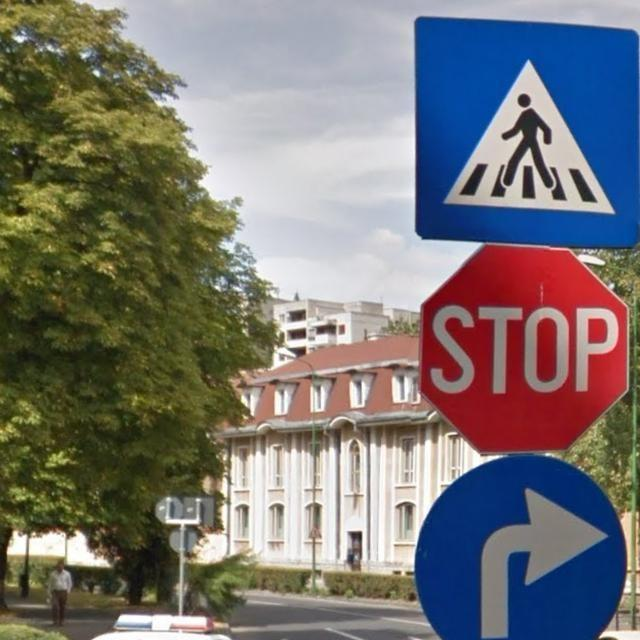info_crosswalk: (412, 12, 640, 250)
prio_stop: (419, 239, 629, 454)
